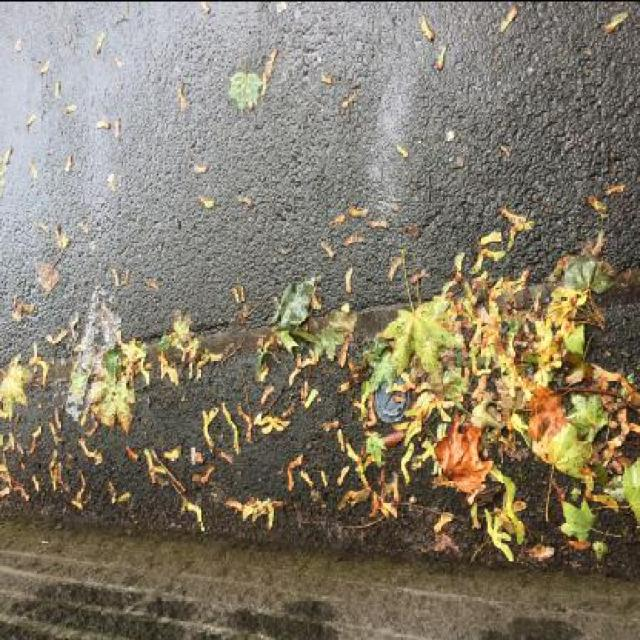plastic: (372, 370, 410, 422)
